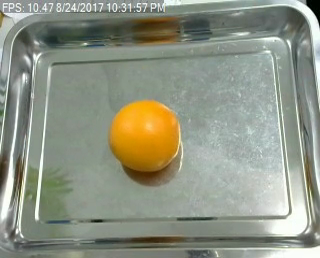Orange: (108, 100, 179, 172)
